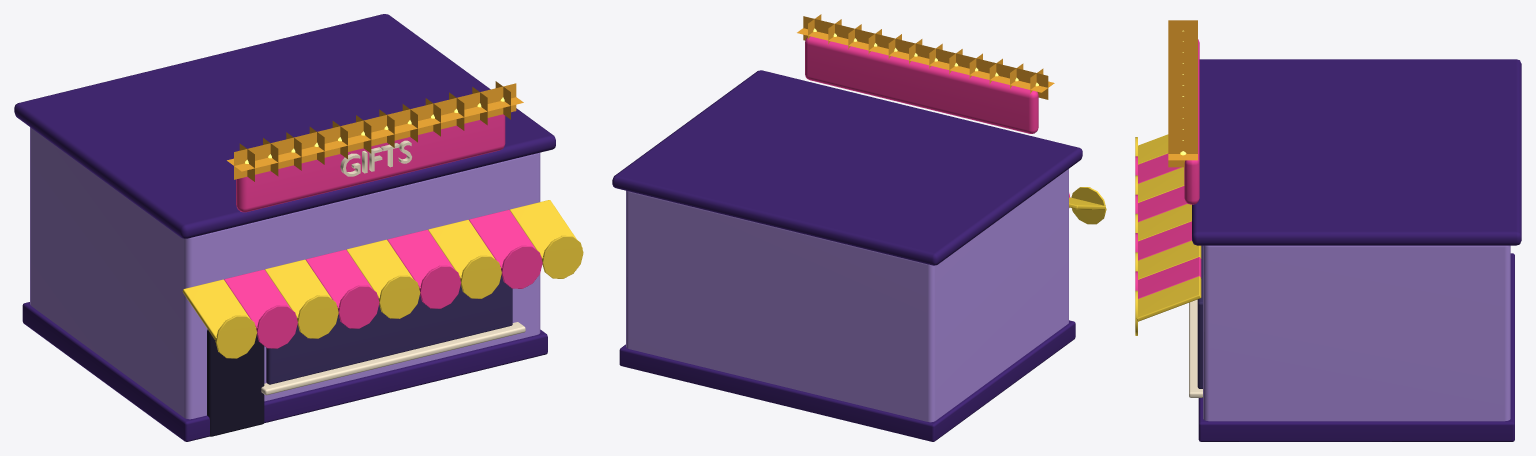
File: beach_shop_d.glb
3 views of the same model, side by side, from view 1: azimuth 30°, elevation 25°; view 2: azimuth 150°, elevation 25°; view 3: azimuth 270°, elevation 25° (orthographic). The views are drawn at different scales.
Parts seen in each view (by area): view 1: Shop; view 2: Shop; view 3: Shop.
Boxes of the visible parts, x1,y1,x2,y2 form: Shop: [14, 14, 583, 441]; Shop: [612, 14, 1106, 441]; Shop: [1135, 20, 1521, 441].
Bounding box in the file's own units: 9.5 × 6.96 × 8.79.
